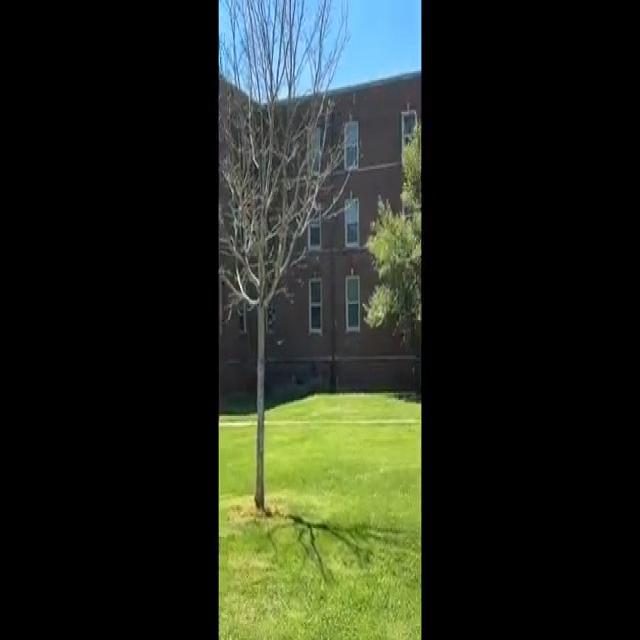drone: (270, 331, 291, 353)
